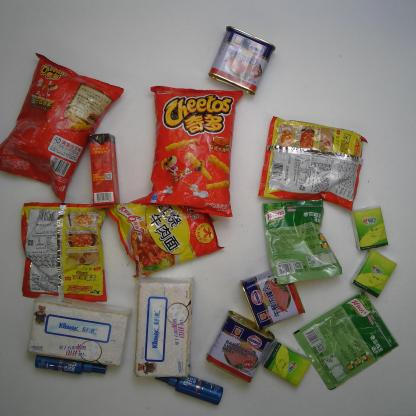Canned Food: (206, 311, 275, 382), (208, 27, 276, 96), (241, 261, 305, 331)
Drink: (87, 134, 120, 205)
Instant Noodles: (108, 180, 224, 278), (258, 116, 368, 210), (21, 202, 107, 302)
Personal Hygiene: (153, 368, 223, 406), (36, 350, 108, 375)
Puffed Food: (0, 54, 124, 204), (131, 86, 244, 218)
Seasoner: (293, 289, 400, 391), (263, 199, 342, 283)
Tissue: (28, 295, 131, 367), (134, 279, 193, 379), (260, 338, 312, 386), (352, 251, 396, 297), (350, 206, 388, 250)
